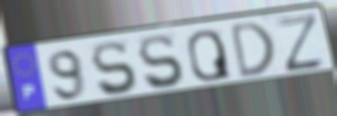9: (47, 49, 89, 101)
D: (228, 19, 277, 82)
Q: (185, 28, 234, 83)
S: (136, 33, 187, 92), (90, 39, 140, 98)
Z: (273, 10, 327, 75)
